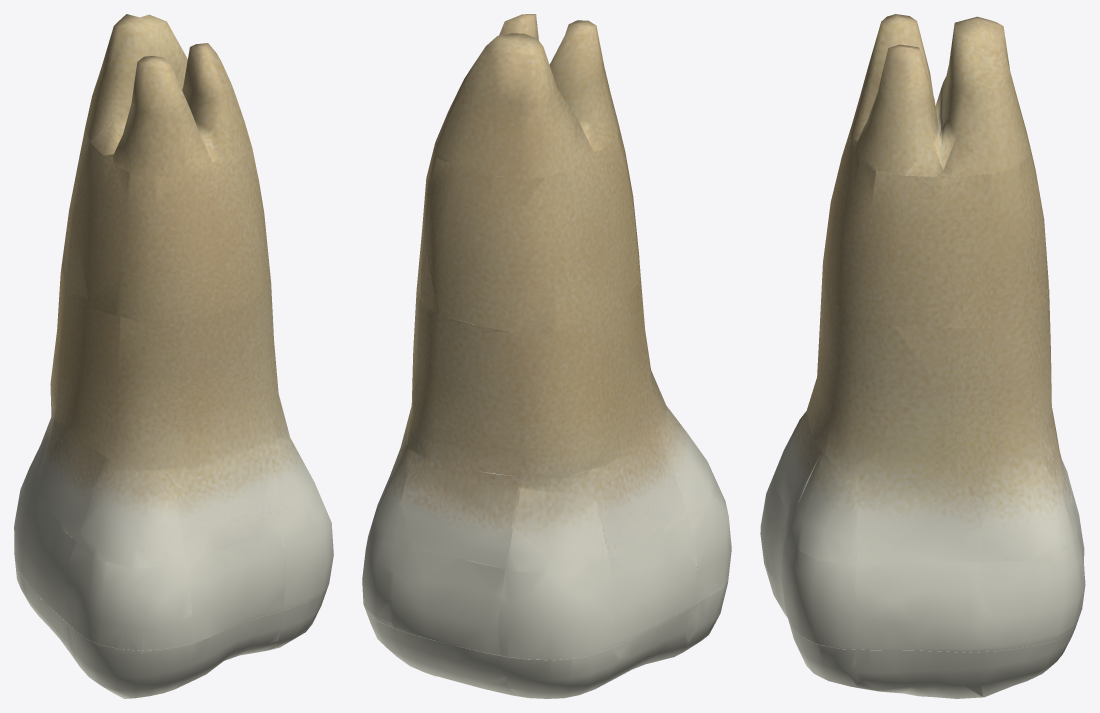
Rendered from Left_Upper_Wisdom.glb.
The picture shows the model from 3 angles, left to right: view 1: azimuth 30°, elevation 25°; view 2: azimuth 150°, elevation 25°; view 3: azimuth 270°, elevation 25°; orthographic projection. The views are drawn at different scales.
Parts seen in each view (by area): view 1: Human_Teeth_Upper_Third_Molar_Wisdom_Geo.006; view 2: Human_Teeth_Upper_Third_Molar_Wisdom_Geo.006; view 3: Human_Teeth_Upper_Third_Molar_Wisdom_Geo.006.
Part boxes in pixels (x1,y1,x2,y2): Human_Teeth_Upper_Third_Molar_Wisdom_Geo.006: (14,14,333,698); Human_Teeth_Upper_Third_Molar_Wisdom_Geo.006: (362,14,731,698); Human_Teeth_Upper_Third_Molar_Wisdom_Geo.006: (760,14,1085,698).
Size of the model in its own units: 1.41 by 3.21 by 1.49.
30 materials, 30 textured.
